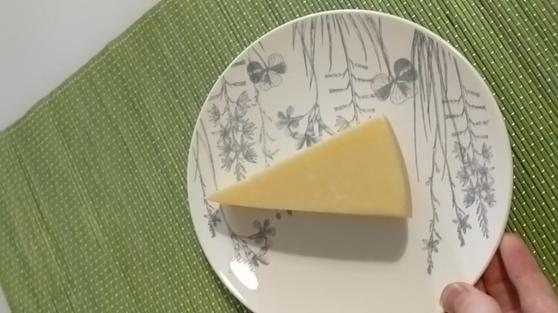cheese: (206, 113, 414, 221)
